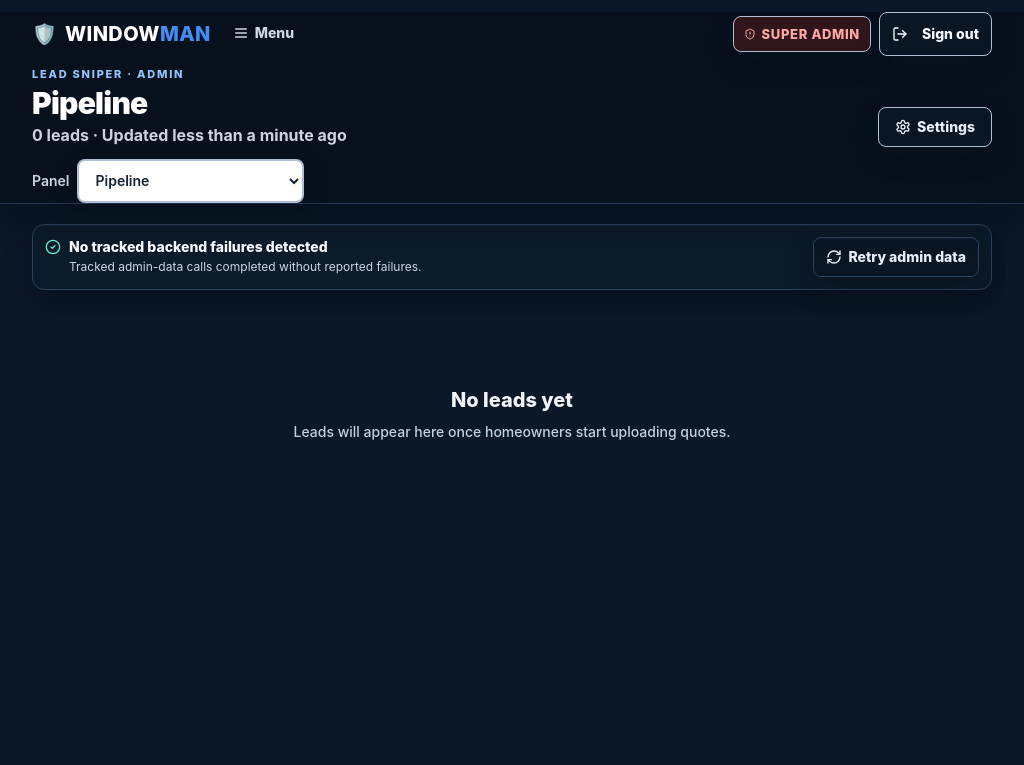
Test: AdminDashboard – operator shell › navigates to canonical route when panel selection changes from route-owned tabs
This screenshot has width=1024, height=765.
Expected: the heading "Pipeline" is shown, [32,84,148,120]
Select "Overview" in the dropdown named "Command Center panels" at (191, 180), box [78,158,304,202]
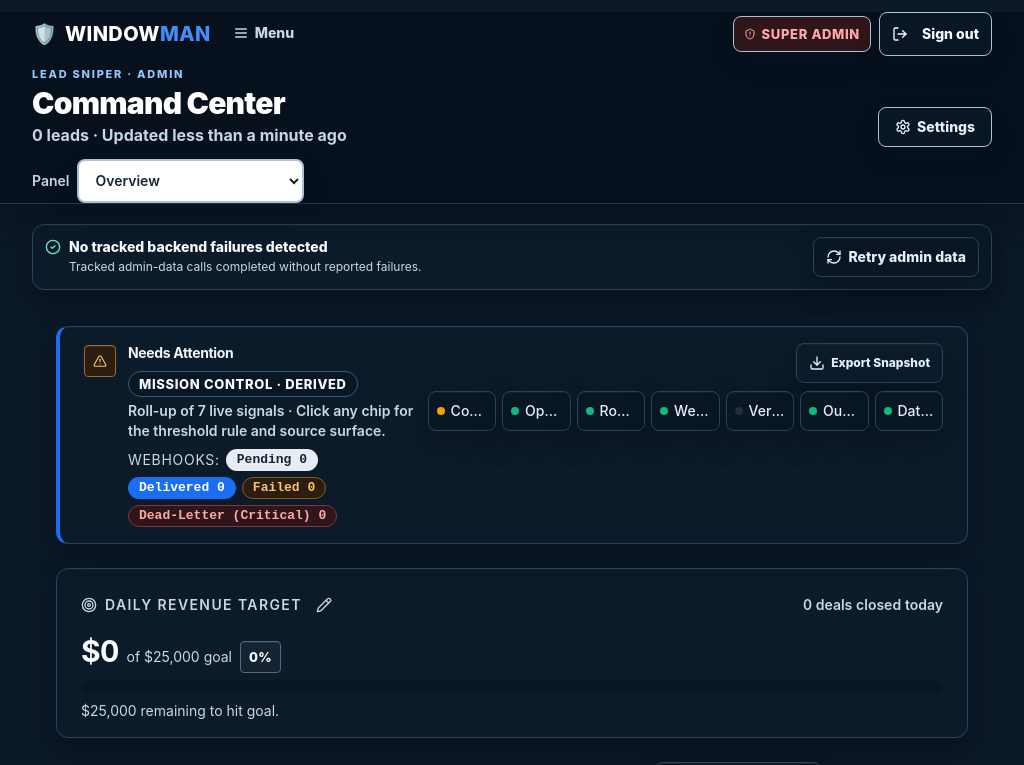
Now the heading "Command Center" is shown, box [32,84,285,120]
